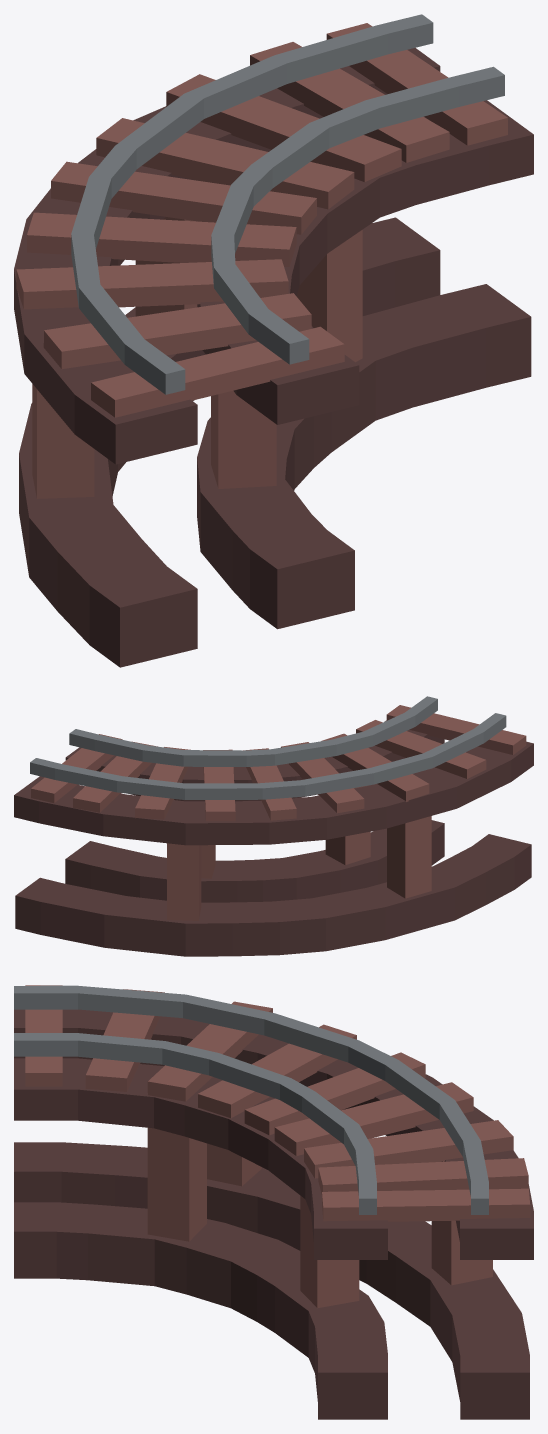
File: DarkRoseWoodMechSmallMinecartRailSectionExternalCurve1.fbx
The picture shows the model from 3 angles, top to bottom: view 1: azimuth 30°, elevation 25°; view 2: azimuth 150°, elevation 25°; view 3: azimuth 270°, elevation 25°; orthographic projection. The views are drawn at different scales.
Visible parts, largest first — view 1: DarkRoseWoodMechSmallMinecartRailSectionExternalCurve1; view 2: DarkRoseWoodMechSmallMinecartRailSectionExternalCurve1; view 3: DarkRoseWoodMechSmallMinecartRailSectionExternalCurve1.
Boxes of the visible parts, bbox=[...] form: DarkRoseWoodMechSmallMinecartRailSectionExternalCurve1: bbox=[14, 14, 533, 667]; DarkRoseWoodMechSmallMinecartRailSectionExternalCurve1: bbox=[14, 696, 533, 956]; DarkRoseWoodMechSmallMinecartRailSectionExternalCurve1: bbox=[14, 985, 533, 1419].
Size of the model in its own units: 500 by 222 by 472.
3 materials, 3 textured.
